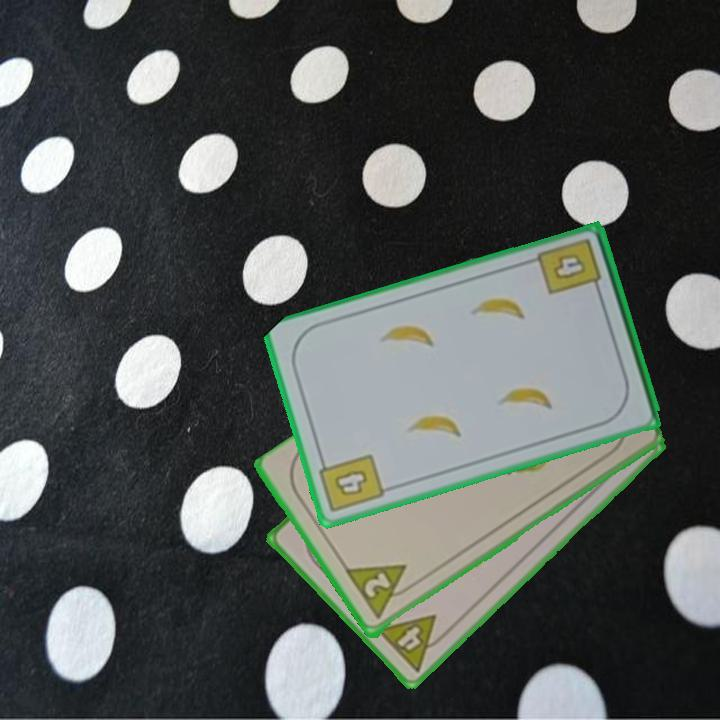2p: (360, 569, 394, 602)
4b: (315, 450, 387, 516), (534, 235, 605, 299)
4p: (373, 611, 453, 676)
